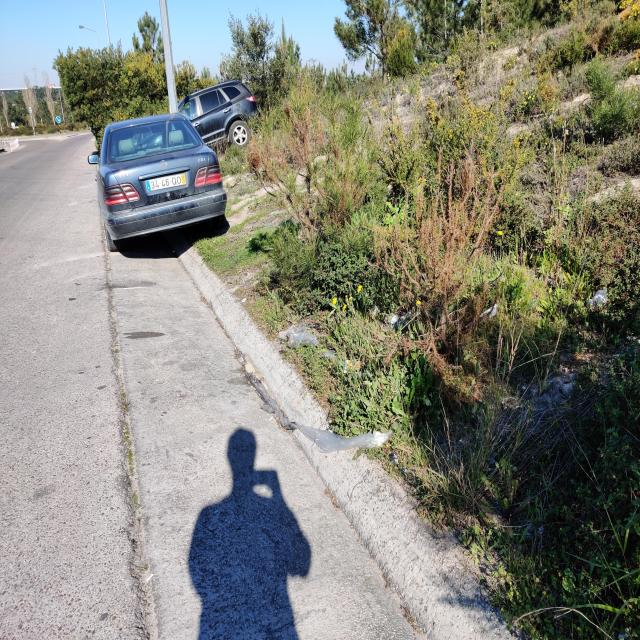litter: (229, 344, 399, 454), (286, 319, 346, 373), (464, 298, 500, 330), (380, 307, 419, 333), (584, 284, 611, 310), (388, 452, 414, 478), (343, 357, 366, 377), (366, 304, 383, 321)
